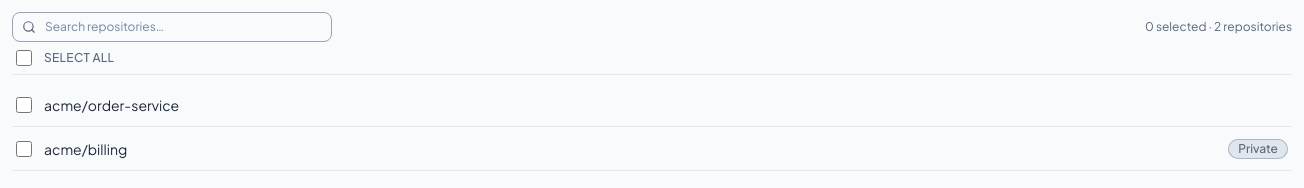
Test: RepositoryPickerList › filters repositories by full_name as the user types
This screenshot has width=1304, height=188.
Check: the checkbox labelled "acme/order-service" is shown, box [16, 96, 32, 112]
Check: the checkbox labelled "acme/billing Private" is shown, box [16, 140, 32, 156]
Type "order" into the field labelled "Search repositories" at [172, 27], box [12, 12, 332, 42]
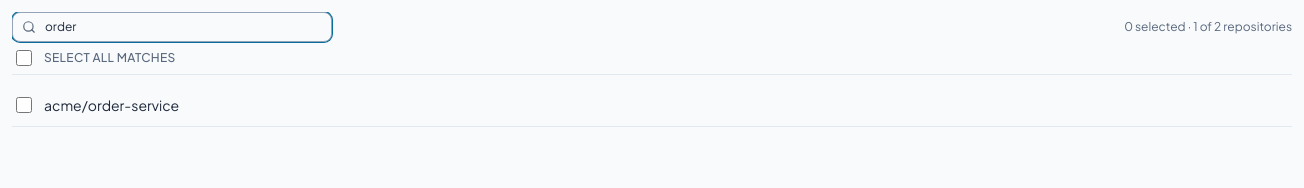
Check: the checkbox labelled "acme/order-service" is shown, box [16, 96, 32, 112]
Check: the text "billing" is gone
